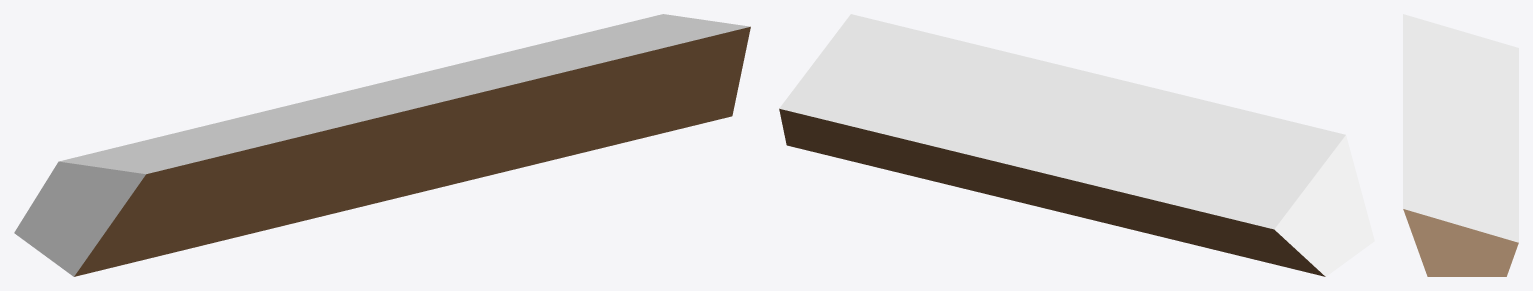
File: Pine_Firewood_Snow_05_LOD.fbx
The picture shows the model from 3 angles, left to right: view 1: azimuth 30°, elevation 25°; view 2: azimuth 150°, elevation 25°; view 3: azimuth 270°, elevation 25°; orthographic projection. The views are drawn at different scales.
Parts seen in each view (by area): view 1: Pine_Firewood_Snow_05_LOD0; view 2: Pine_Firewood_Snow_05_LOD0; view 3: Pine_Firewood_Snow_05_LOD0.
Part boxes in pixels (left/top/right/bottom): Pine_Firewood_Snow_05_LOD0: left=14, top=14, right=750, bottom=276; Pine_Firewood_Snow_05_LOD0: left=779, top=14, right=1374, bottom=276; Pine_Firewood_Snow_05_LOD0: left=1403, top=14, right=1518, bottom=276.
Size of what is drawn, in the model's own units: 51.8 by 7.76 by 11.95.
